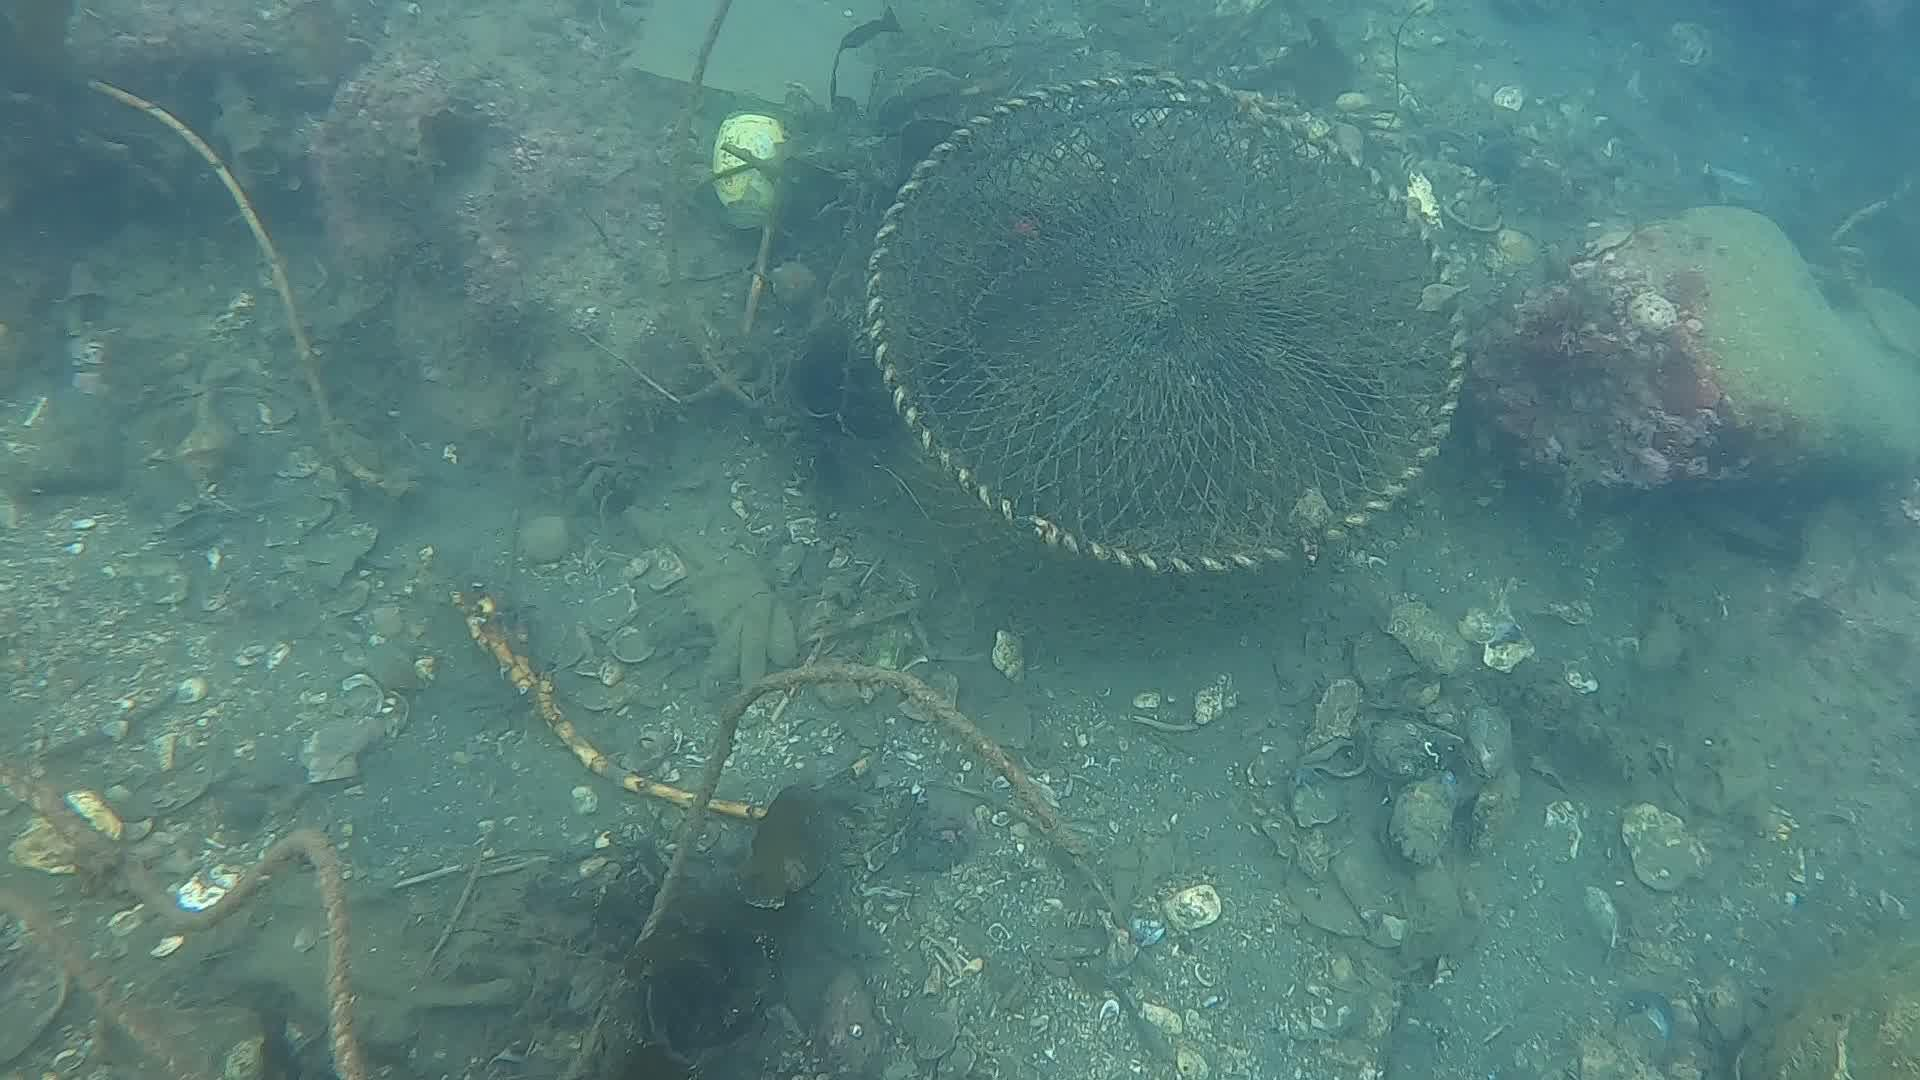circular fish trap: (865, 70, 1470, 642)
rope: (41, 785, 367, 1080), (0, 881, 190, 1080)
